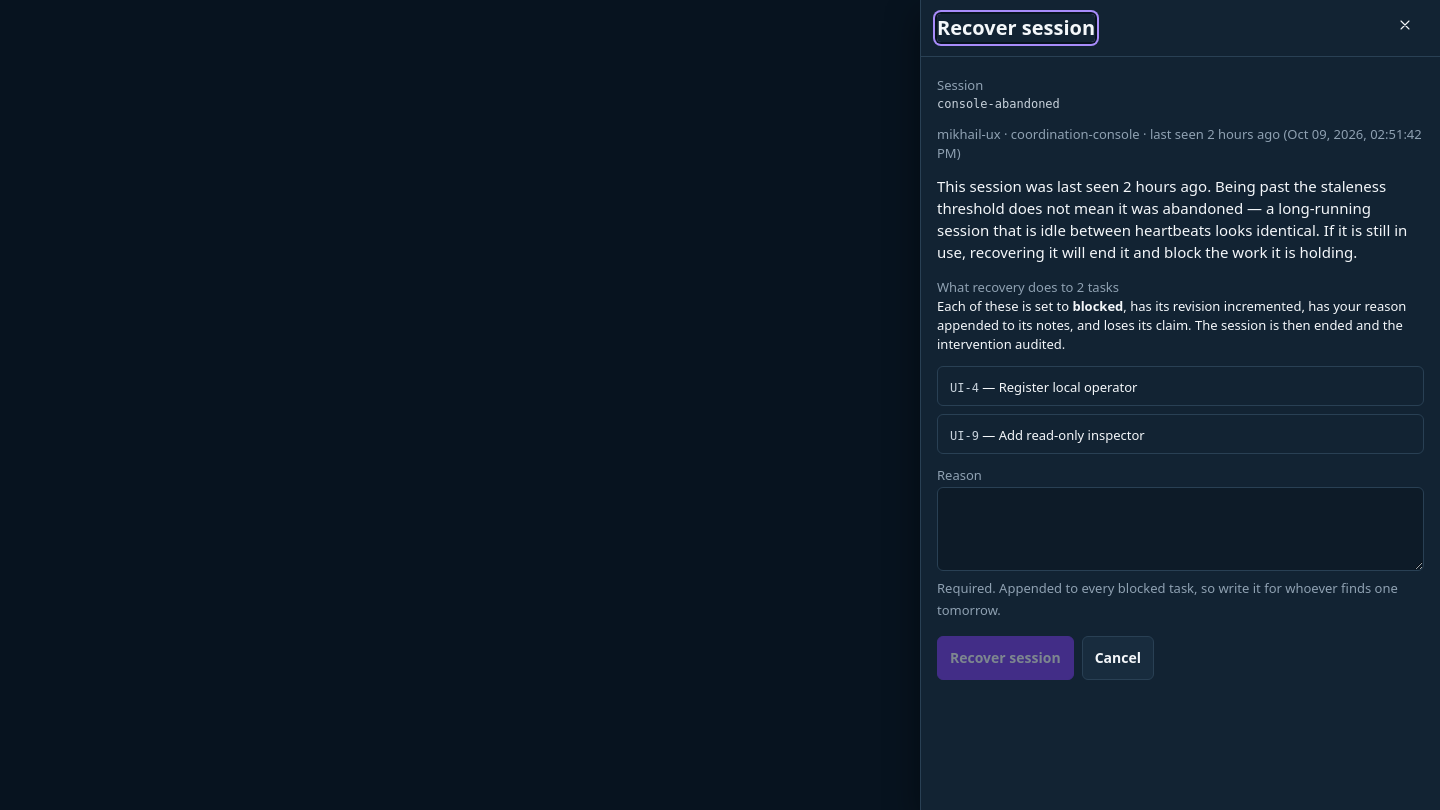
Test: SessionRecovery — outcomes › keeps the reason and does not retry when the request fails
Type "worth keeping" into the text box labelled "Reason". click: (1180, 529)
box: [937,487,1424,571]
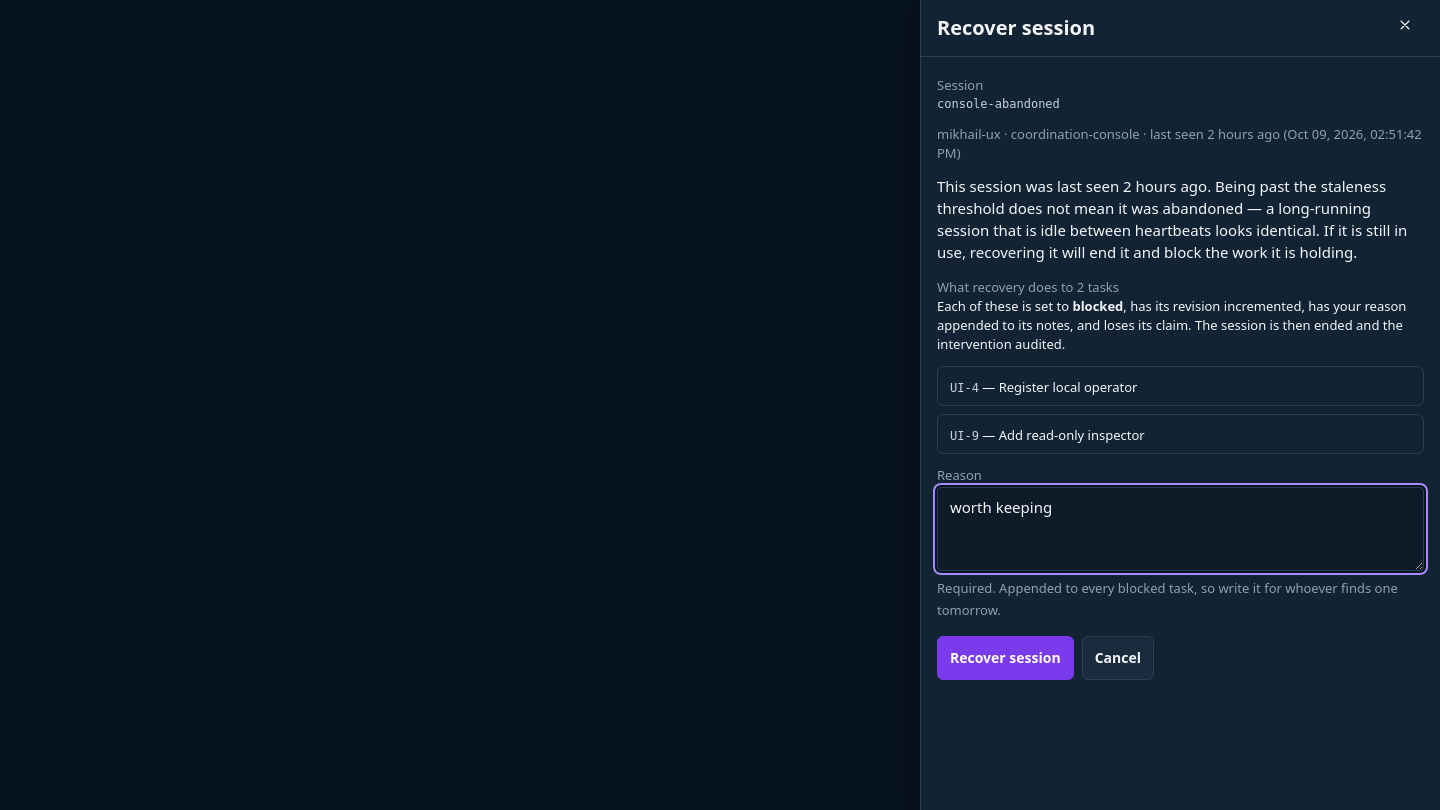
Click the button "Recover session". click: (1005, 658)
box: [937,636,1074,680]
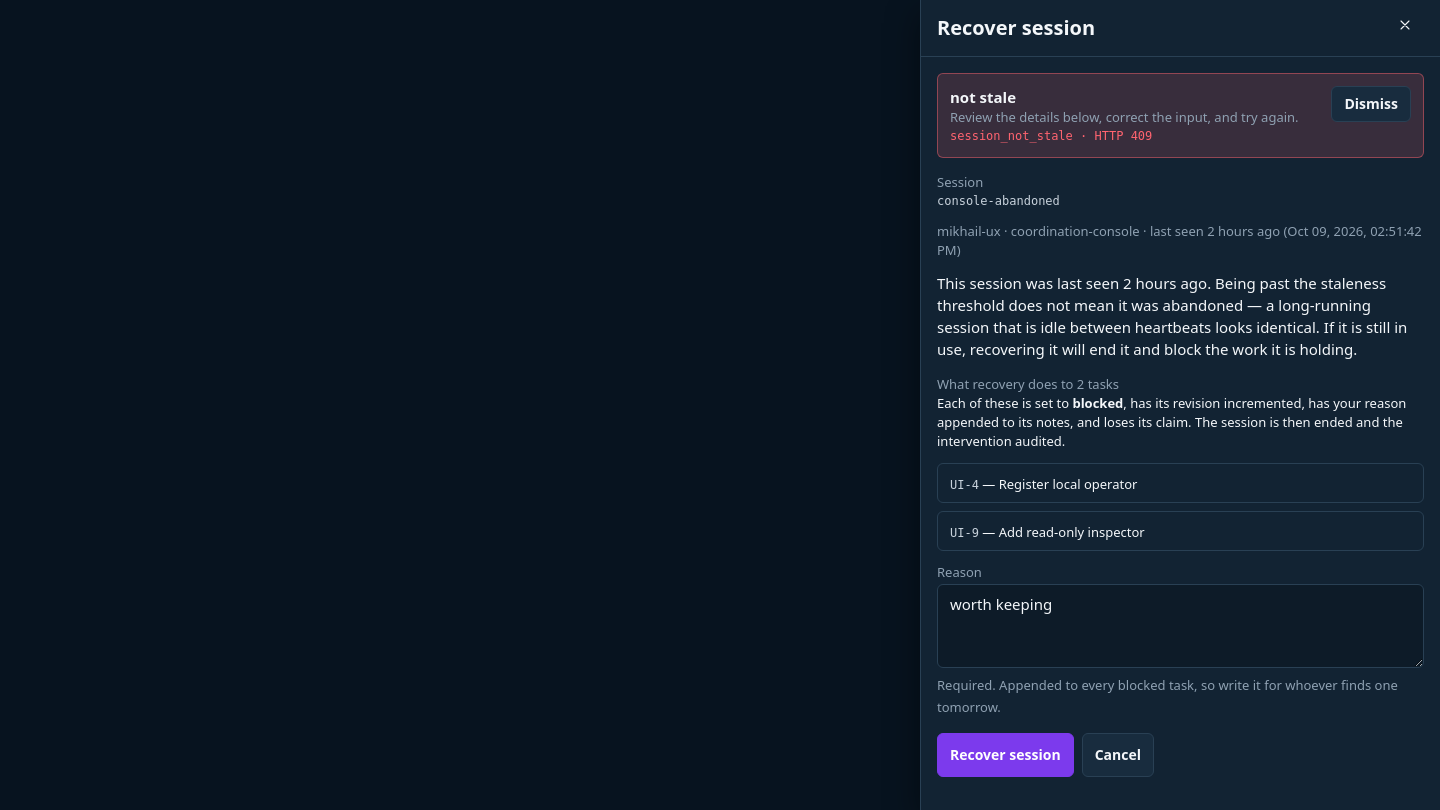
Check: the message is shown, box [937,73,1424,158]
